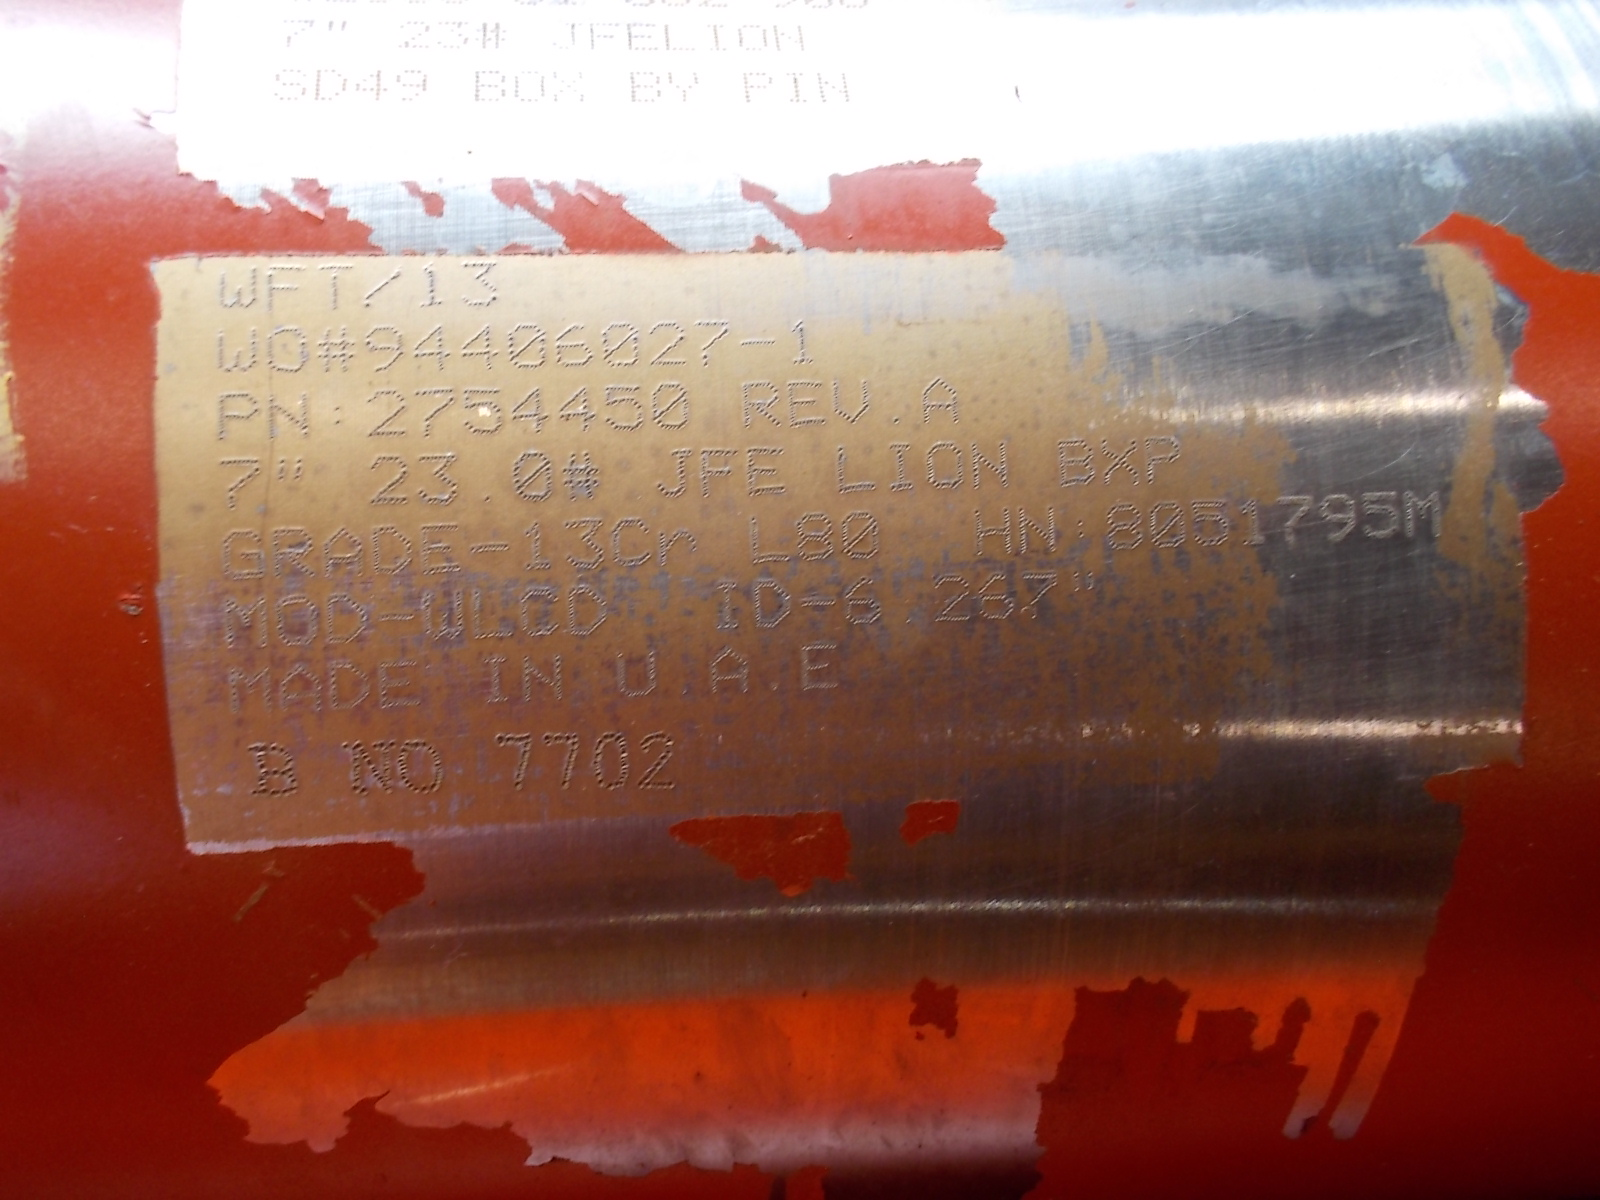character: (239, 739, 306, 805), (585, 724, 635, 800), (635, 720, 682, 800), (535, 724, 585, 799), (397, 737, 456, 799), (339, 737, 397, 800), (265, 518, 319, 585), (212, 523, 267, 587), (792, 637, 850, 697), (412, 447, 465, 513), (202, 321, 263, 377), (270, 587, 321, 653), (746, 570, 796, 635), (213, 595, 270, 653), (609, 645, 666, 702), (323, 657, 375, 718), (511, 650, 564, 712), (491, 726, 535, 799), (923, 566, 973, 632), (504, 449, 558, 508), (563, 579, 614, 642), (418, 582, 465, 650), (1015, 563, 1065, 628), (740, 444, 795, 500), (360, 453, 412, 513), (467, 582, 518, 644), (319, 522, 368, 585), (321, 587, 370, 650), (1049, 432, 1099, 495), (357, 384, 409, 442), (558, 447, 609, 508), (367, 516, 414, 579), (207, 260, 261, 315), (704, 644, 757, 701), (224, 659, 275, 718), (643, 316, 692, 377), (215, 455, 261, 521), (375, 658, 425, 718), (1270, 493, 1319, 553), (275, 657, 323, 718), (957, 505, 1015, 556), (593, 318, 643, 377), (411, 384, 460, 444), (459, 253, 506, 314), (1187, 499, 1235, 560), (261, 389, 314, 444), (501, 319, 551, 377), (829, 373, 877, 432), (782, 374, 830, 434), (413, 519, 461, 579), (1403, 484, 1450, 545), (918, 373, 970, 427), (650, 442, 694, 505), (736, 374, 782, 434), (460, 384, 506, 444), (597, 379, 648, 434), (837, 509, 887, 563), (551, 318, 595, 379), (695, 444, 740, 505), (309, 260, 357, 316), (265, 321, 312, 378), (747, 511, 792, 570), (518, 582, 563, 642), (1099, 432, 1144, 492), (212, 389, 261, 444), (261, 260, 309, 315), (648, 378, 695, 434), (362, 320, 408, 377), (408, 255, 454, 313), (792, 509, 837, 568), (357, 262, 406, 315), (831, 444, 881, 497), (920, 439, 968, 493), (455, 319, 501, 374), (1100, 500, 1146, 556), (1143, 432, 1188, 489), (840, 571, 882, 633), (564, 516, 609, 574), (520, 516, 564, 574), (312, 321, 358, 377), (1015, 500, 1060, 557), (968, 436, 1010, 494), (1318, 489, 1359, 548), (409, 320, 455, 374), (690, 316, 736, 371), (1359, 489, 1403, 545), (971, 570, 1013, 628), (551, 384, 596, 437), (506, 384, 551, 439), (471, 653, 511, 712), (609, 516, 653, 568), (708, 574, 746, 635), (1146, 499, 1187, 556), (737, 66, 781, 115), (782, 313, 823, 366), (879, 442, 920, 494), (346, 64, 393, 108), (1236, 493, 1267, 557), (653, 528, 704, 566), (307, 61, 350, 106), (470, 64, 511, 111), (814, 64, 853, 113), (263, 64, 307, 106), (472, 13, 513, 57), (621, 68, 665, 108), (389, 14, 435, 53), (273, 15, 316, 55), (394, 66, 435, 108), (665, 68, 704, 112), (549, 67, 590, 108), (511, 67, 549, 111), (781, 66, 814, 113), (435, 13, 472, 53), (620, 16, 660, 54), (771, 19, 813, 55), (543, 18, 585, 53), (733, 19, 771, 57), (697, 18, 733, 57), (660, 18, 697, 54), (585, 16, 620, 53), (462, 533, 510, 560), (796, 586, 839, 615), (732, 333, 779, 354), (276, 453, 304, 487), (1070, 566, 1101, 594), (377, 606, 418, 625), (323, 13, 349, 37), (329, 405, 344, 427), (769, 676, 784, 698), (889, 411, 908, 427), (1075, 521, 1087, 542), (901, 616, 918, 630), (480, 492, 494, 505), (678, 687, 692, 695)
